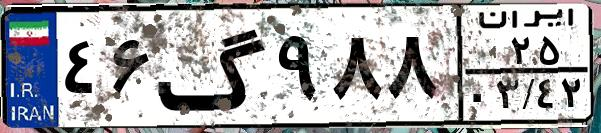0: (470, 70, 495, 125)
2: (560, 70, 590, 125), (508, 27, 537, 80)
3: (495, 70, 520, 125)
4: (57, 26, 110, 100), (535, 70, 560, 125)
5: (537, 27, 568, 80)
6: (110, 28, 156, 98)
8: (385, 28, 445, 110), (330, 28, 385, 110)
9: (270, 28, 330, 110)
گ: (156, 12, 270, 120)
